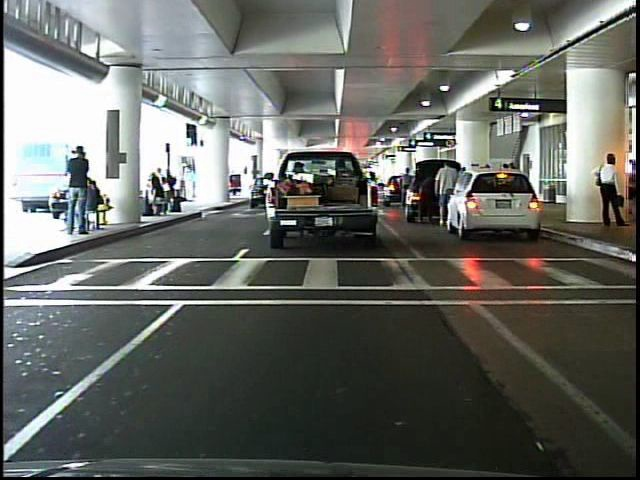person: (591, 147, 629, 233), (66, 140, 98, 237), (432, 159, 460, 231), (182, 163, 198, 205)
